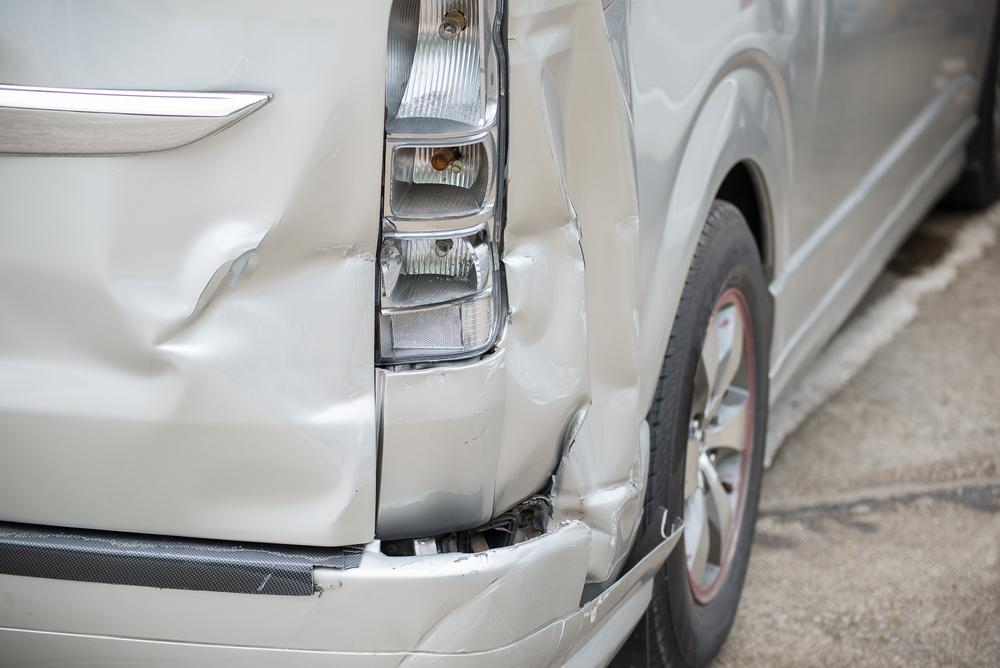dent: (0, 79, 381, 546), (488, 0, 640, 530)
lamp broken: (370, 0, 509, 364)
